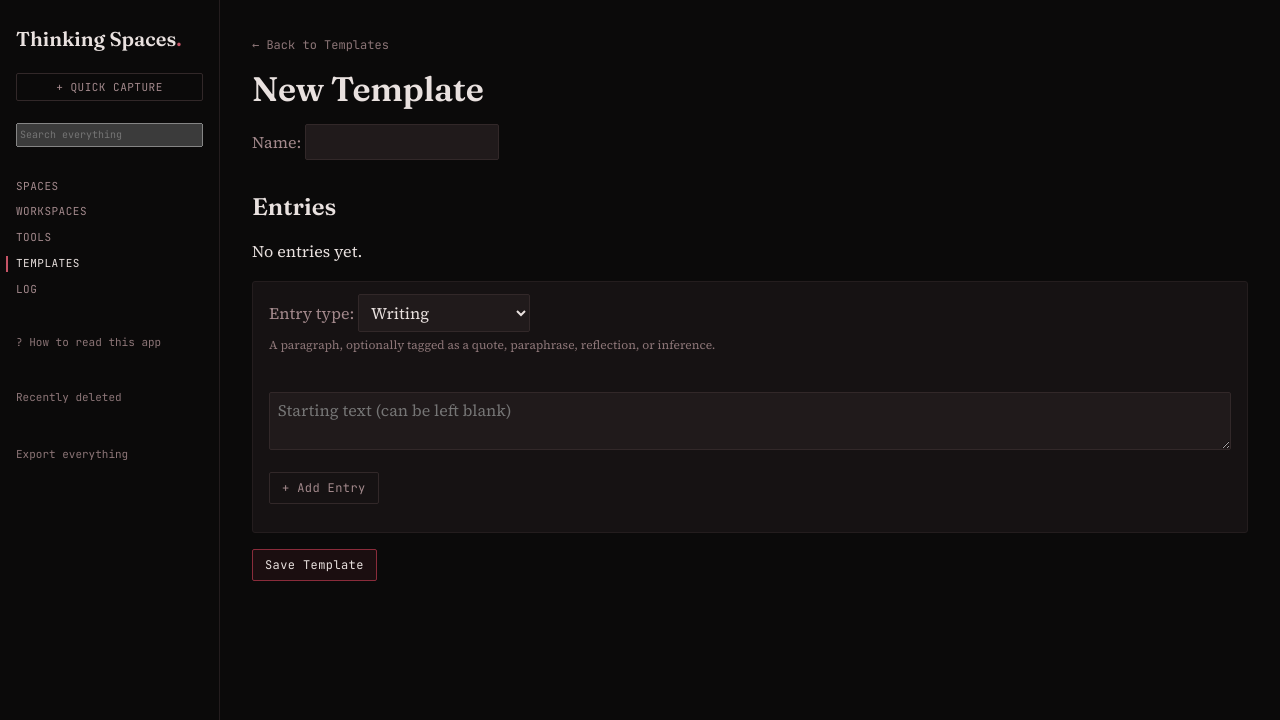
TemplateEditor: creating › adds a block via NewBlockForm, shows it in the preview, and can remove/reorder it
Click the button "+ Add Entry". click: point(324, 488)
box: [269,472,379,504]
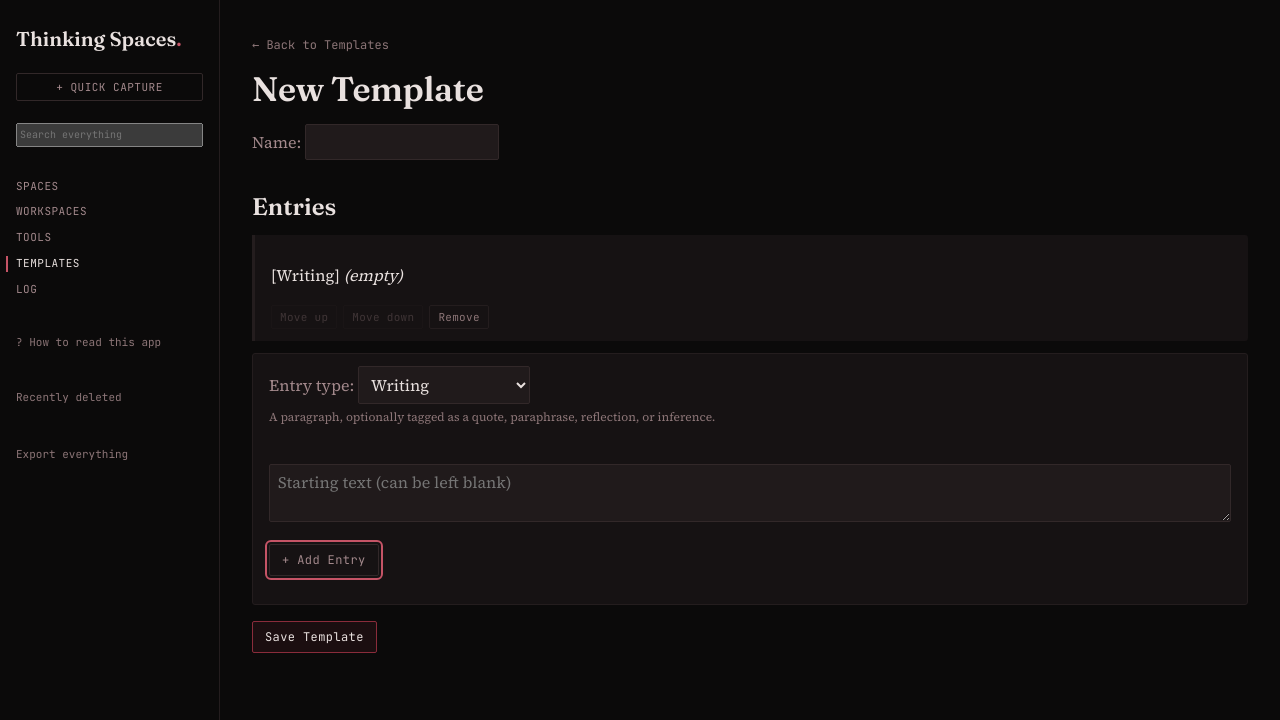
Check: the button "Remove" is shown, box [429,305,489,329]
Click the button "+ Add Entry". click: point(324, 560)
box: [269,544,379,576]
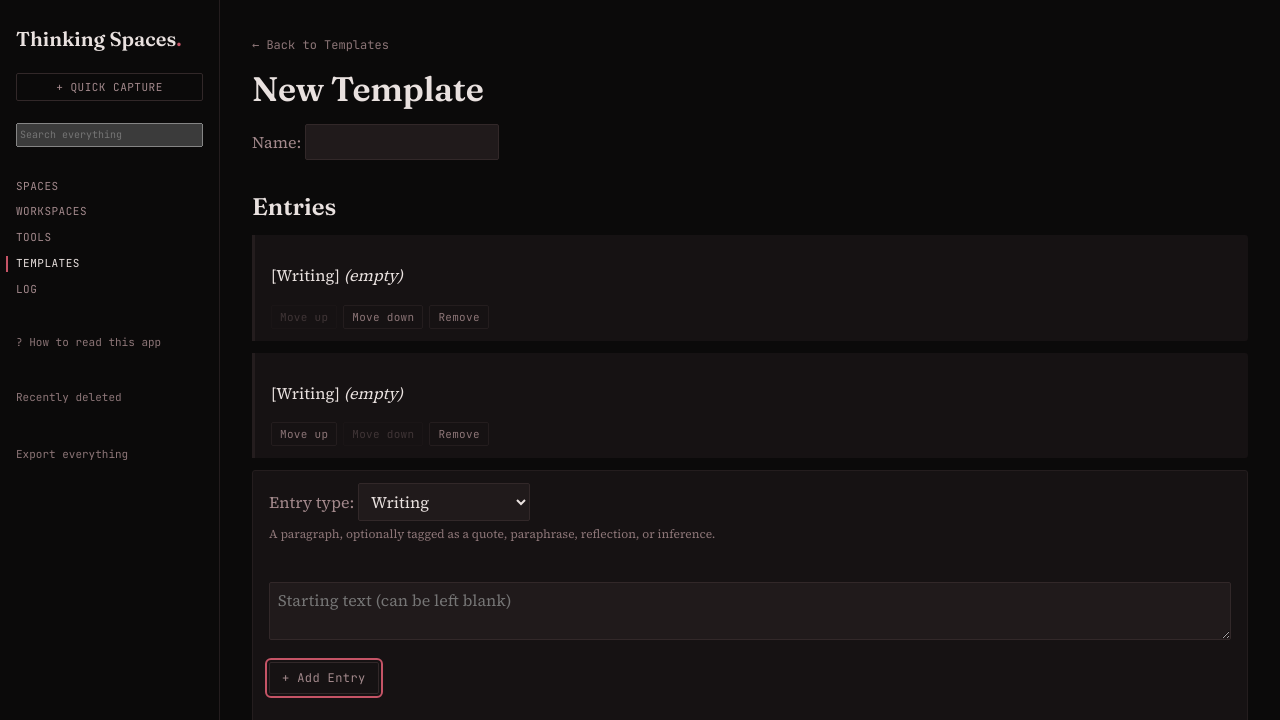
Check: the 1st button "Move up" is disabled, box [271,305,337,329]
Check: the number of buttons "Remove" is 2
Click the 1st button "Remove". click: point(459, 317)
box: [429,305,489,329]
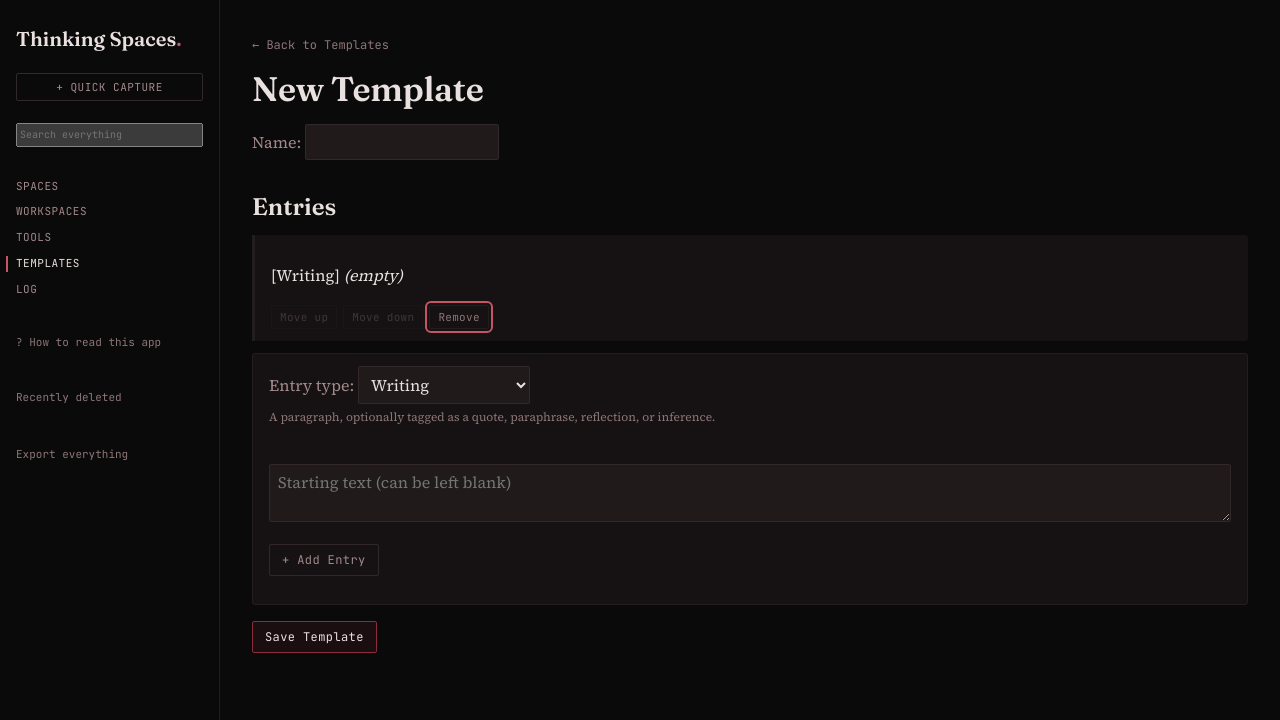
Check: the number of buttons "Remove" is 1, box [429,305,489,329]
